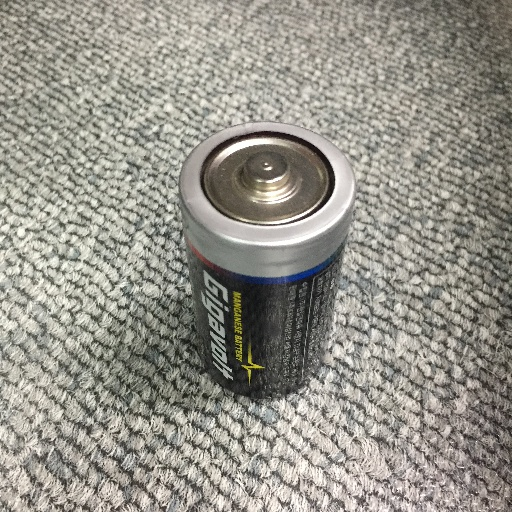Battery_0: (171, 108, 368, 412)
